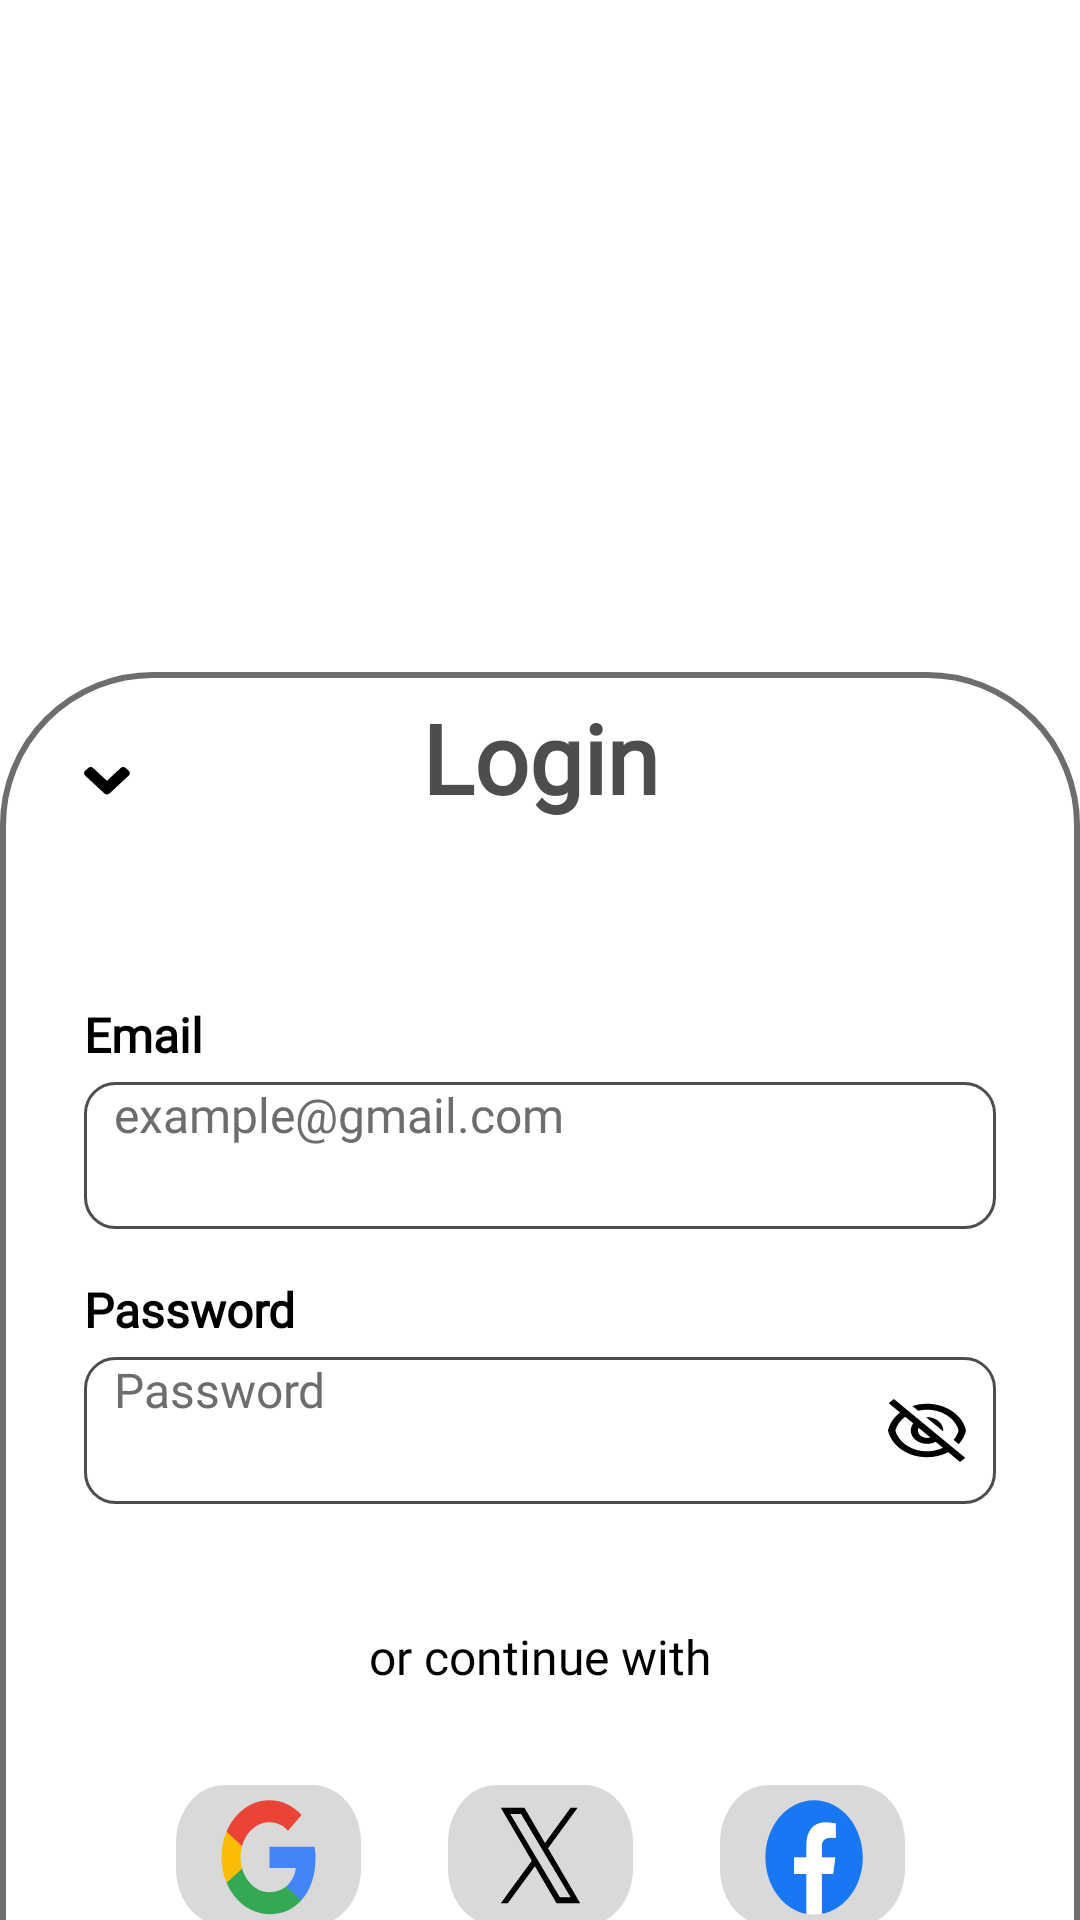

Icons on this 1080px×1920px Android screen, each with the point to tap as (x,y):
dropdown: (107,781)
